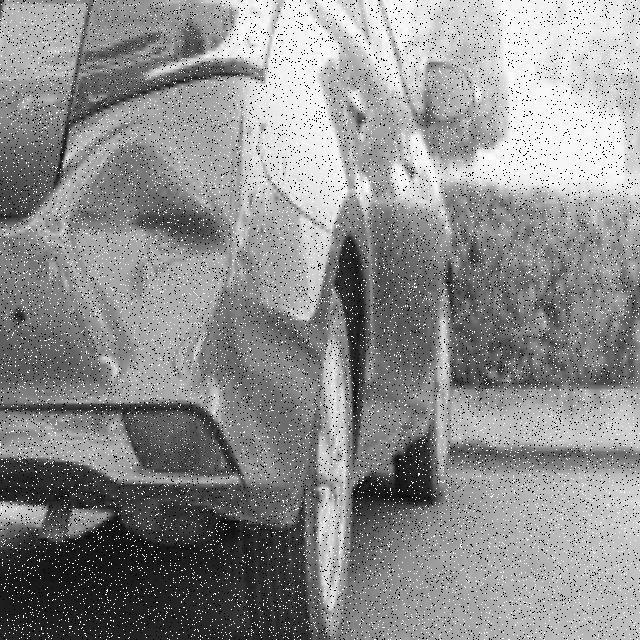rear-bumper-dent: (1, 113, 326, 549)
